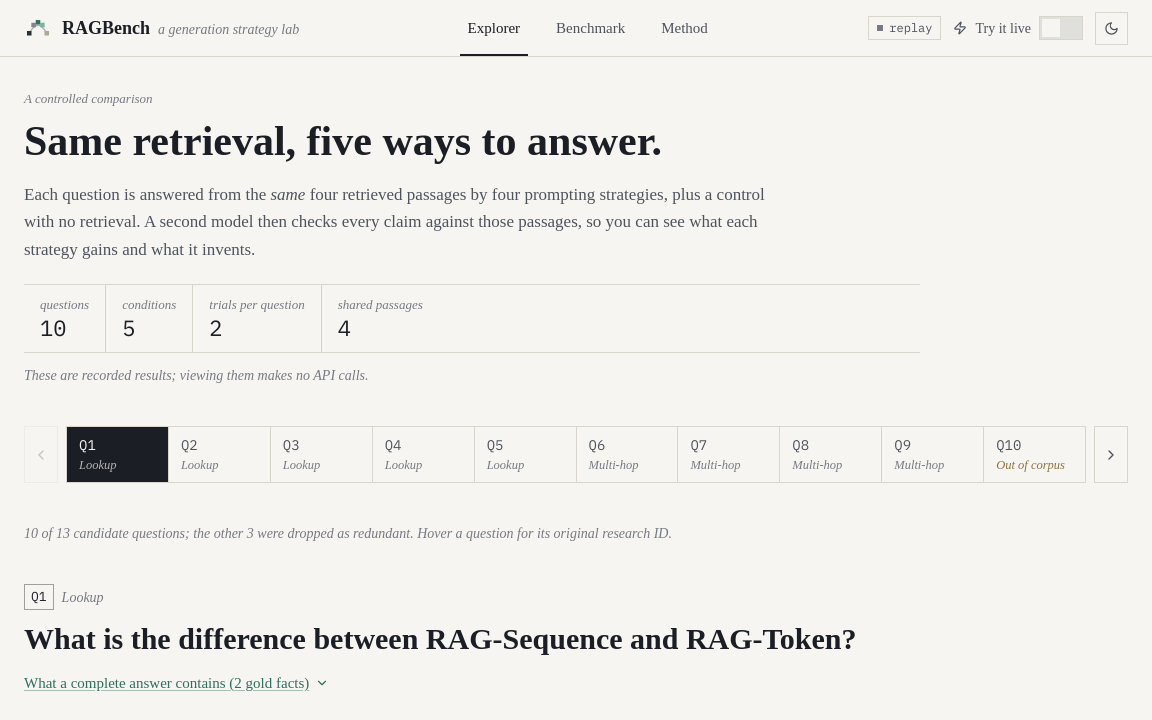
Test: benchmark and method tabs › renders the method page with its limitations
Click the button "Method": x=685, y=28 [649,0,720,56]
(page scrolled)
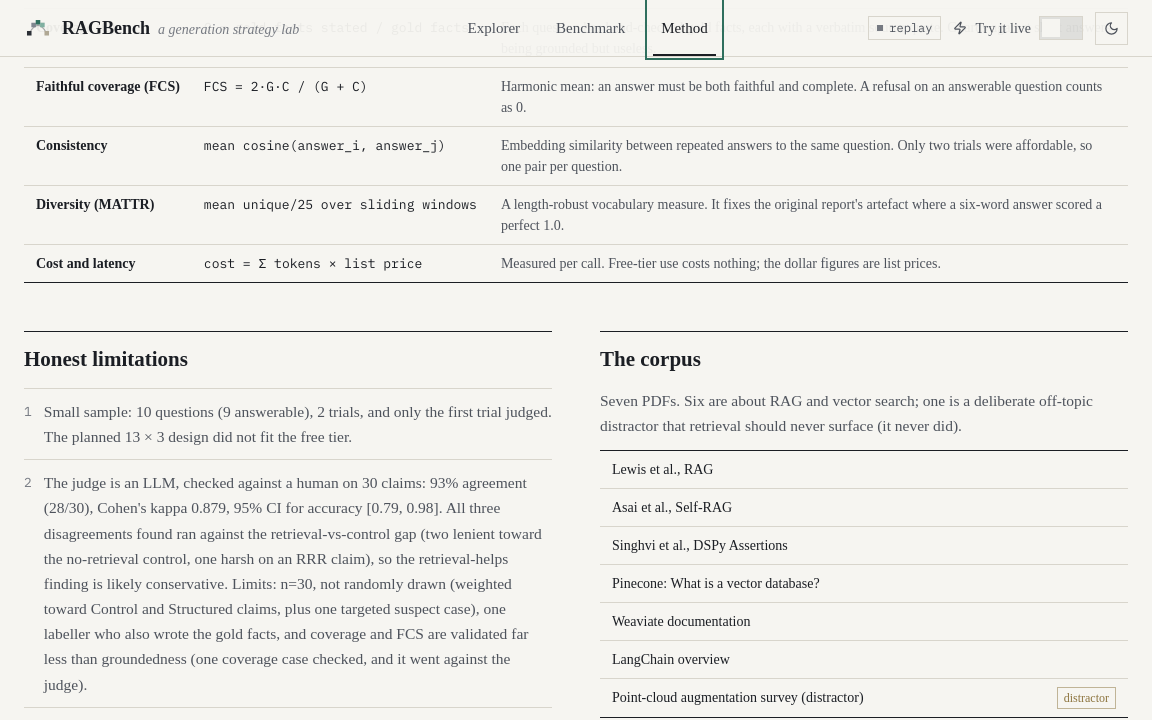
Expected: the heading "Honest limitations" is shown, [24,347,188,371]
